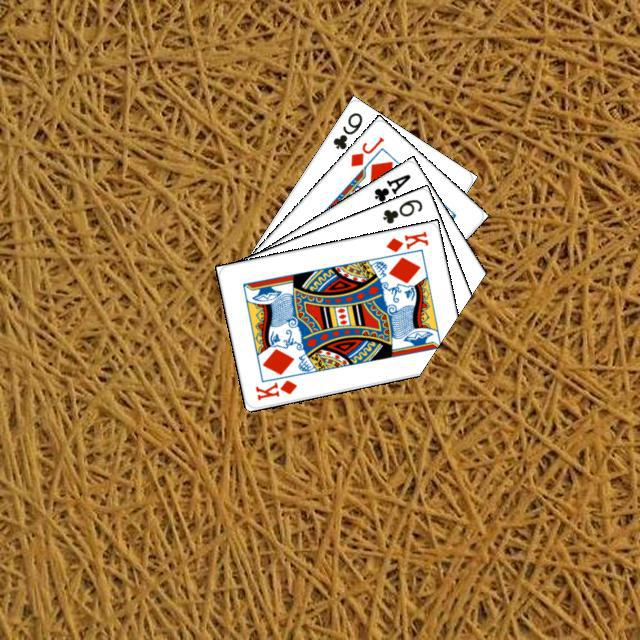6c: (378, 194, 424, 226)
9c: (328, 107, 364, 151)
Ac: (369, 169, 413, 204)
Jd: (345, 132, 386, 169)
Kd: (381, 226, 430, 254), (250, 375, 299, 402)
